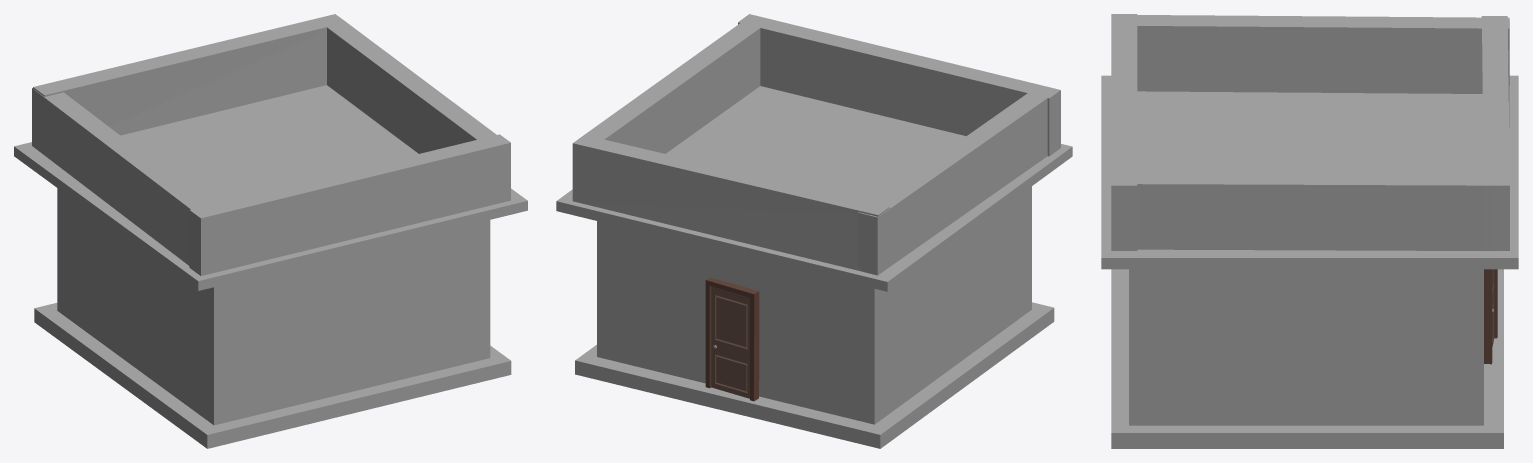
Rendered from house sample indian small.fbx.
3 renders of one model, left to right at view 1: azimuth 30°, elevation 25°; view 2: azimuth 150°, elevation 25°; view 3: azimuth 270°, elevation 25°, orthographic. The views are drawn at different scales.
Visible parts, largest first — view 1: New_Game_Object; view 2: New_Game_Object; view 3: New_Game_Object.
Boxes of the visible parts, bbox=[...] form: New_Game_Object: bbox=[14, 14, 527, 448]; New_Game_Object: bbox=[556, 14, 1072, 448]; New_Game_Object: bbox=[1101, 14, 1518, 448].
Bounding box in the file's own units: 9.42 × 6.39 × 9.12.
